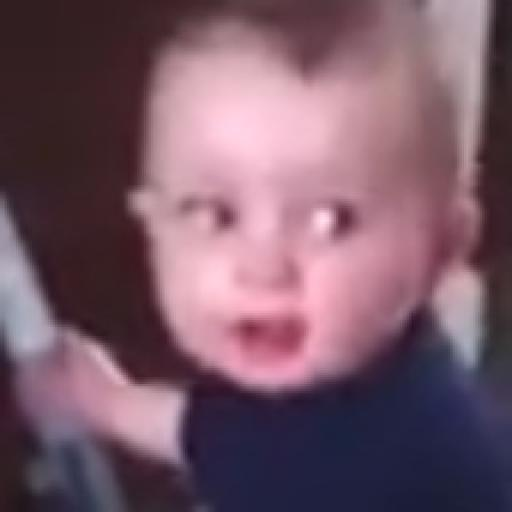Autism: (152, 13, 502, 417)
